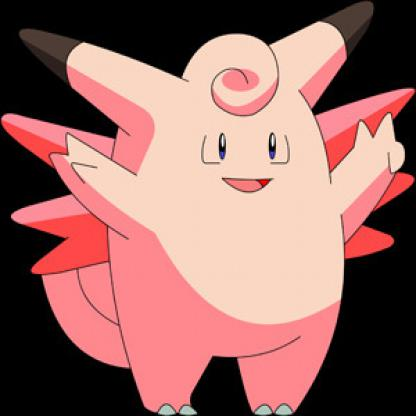Clefable: (8, 23, 416, 416)
